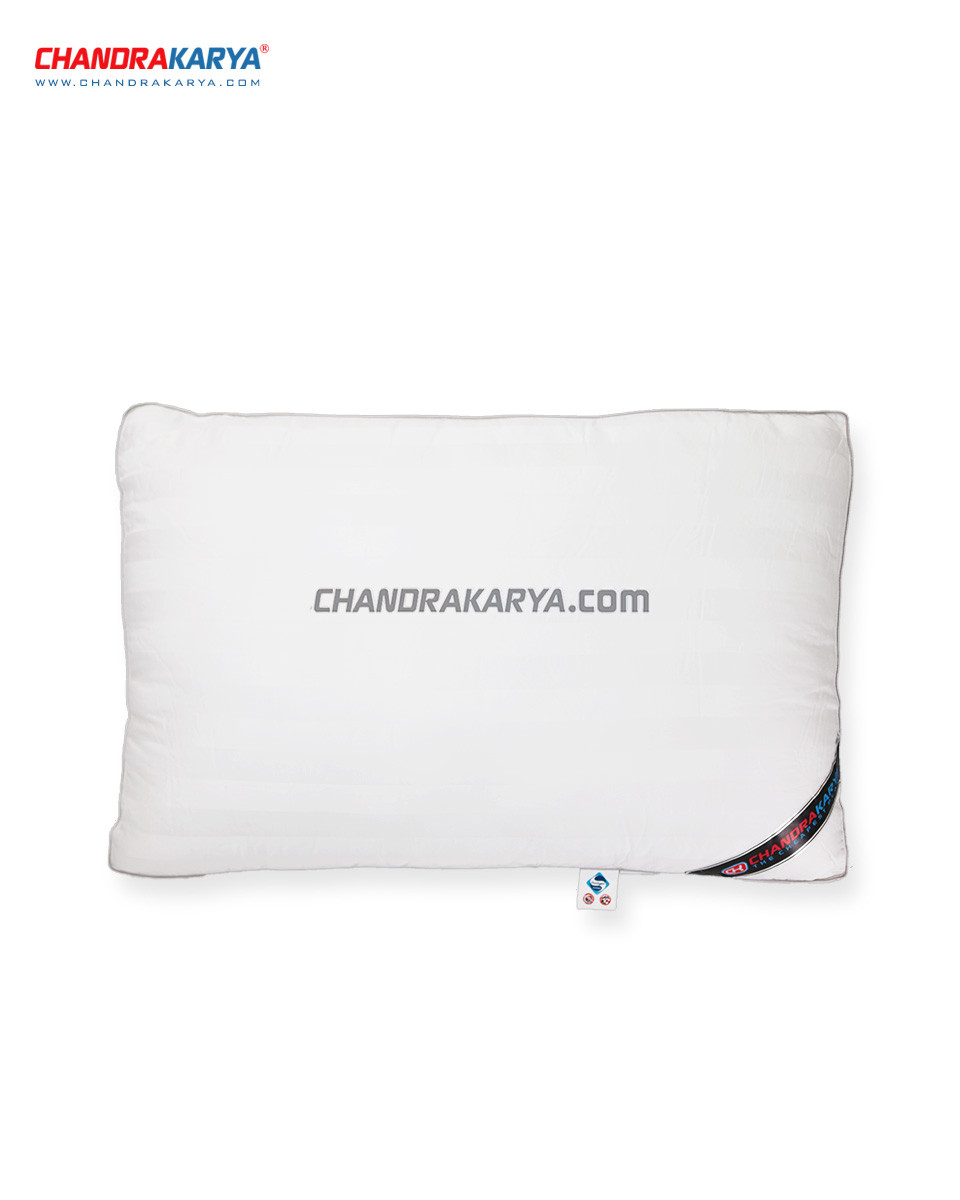bantal: (115, 403, 856, 918)
